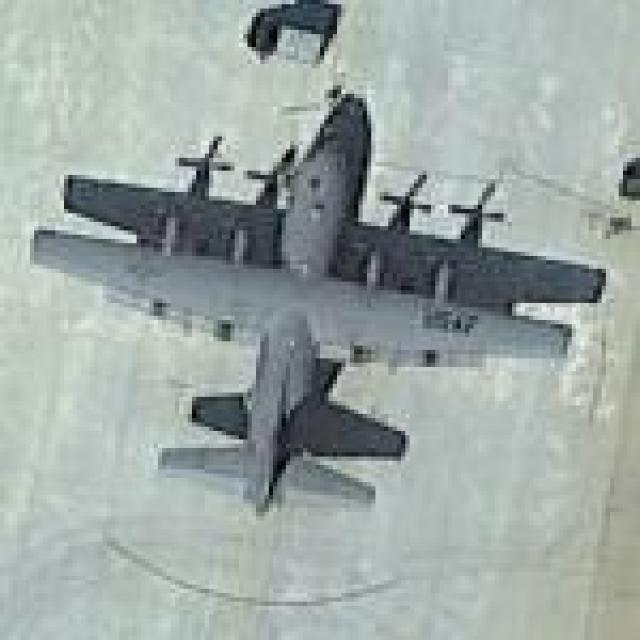C-130_TopDown: (29, 90, 609, 526)
